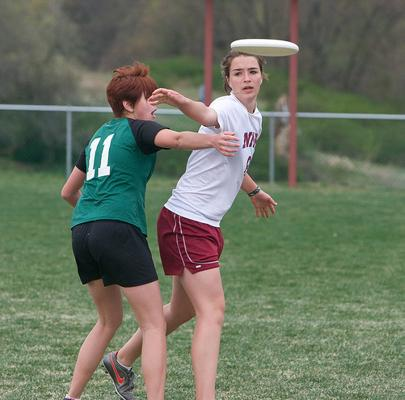person: (102, 51, 280, 400)
